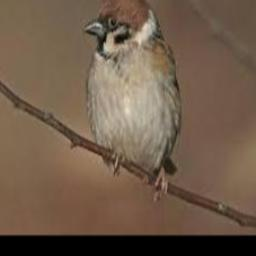Sparrow: (82, 0, 180, 200)
